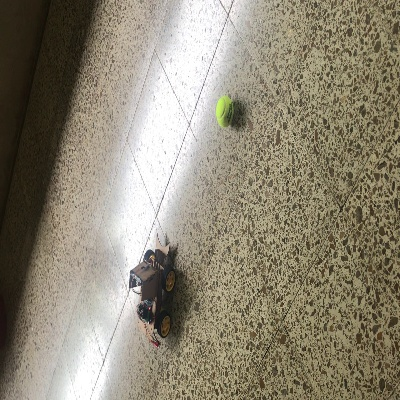Ball: (215, 96, 232, 128)
Robot: (128, 232, 178, 338)
